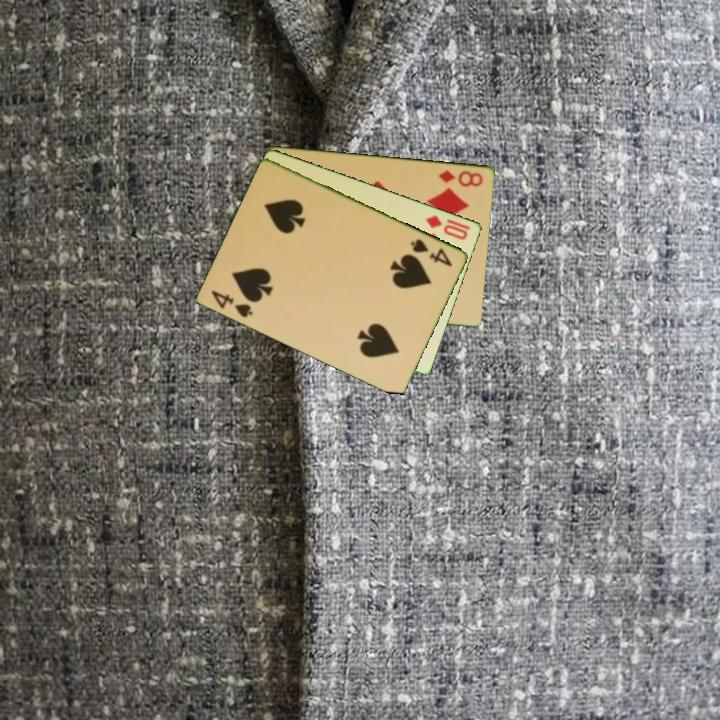10d: (422, 211, 471, 243)
4s: (407, 235, 456, 269), (208, 286, 256, 320)
8d: (435, 167, 486, 189)
